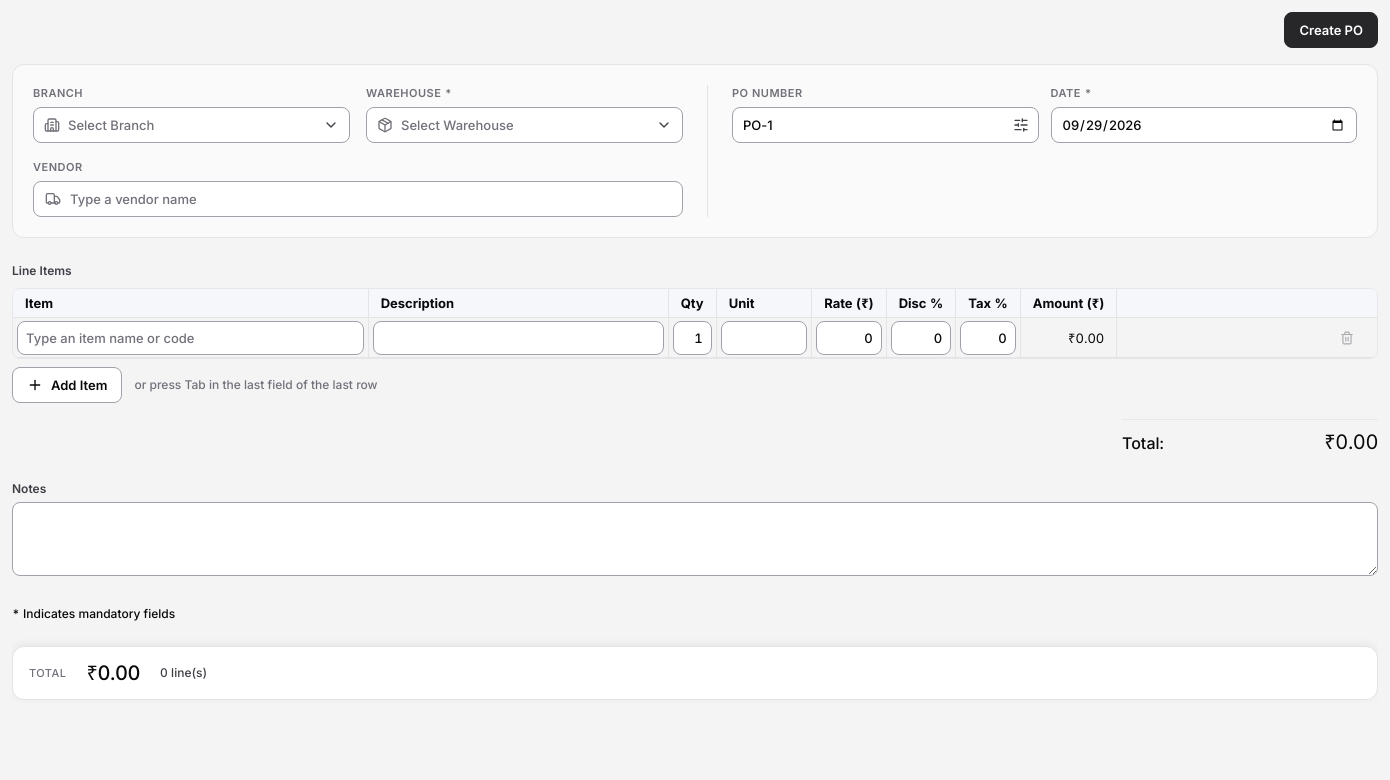
Test: the purchase order line grid › takes the discount off the line amount
The width and height of the screenshot is (1390, 780).
Replace the text in the 1st number field with "10" at [692, 338], box [673, 320, 712, 354]
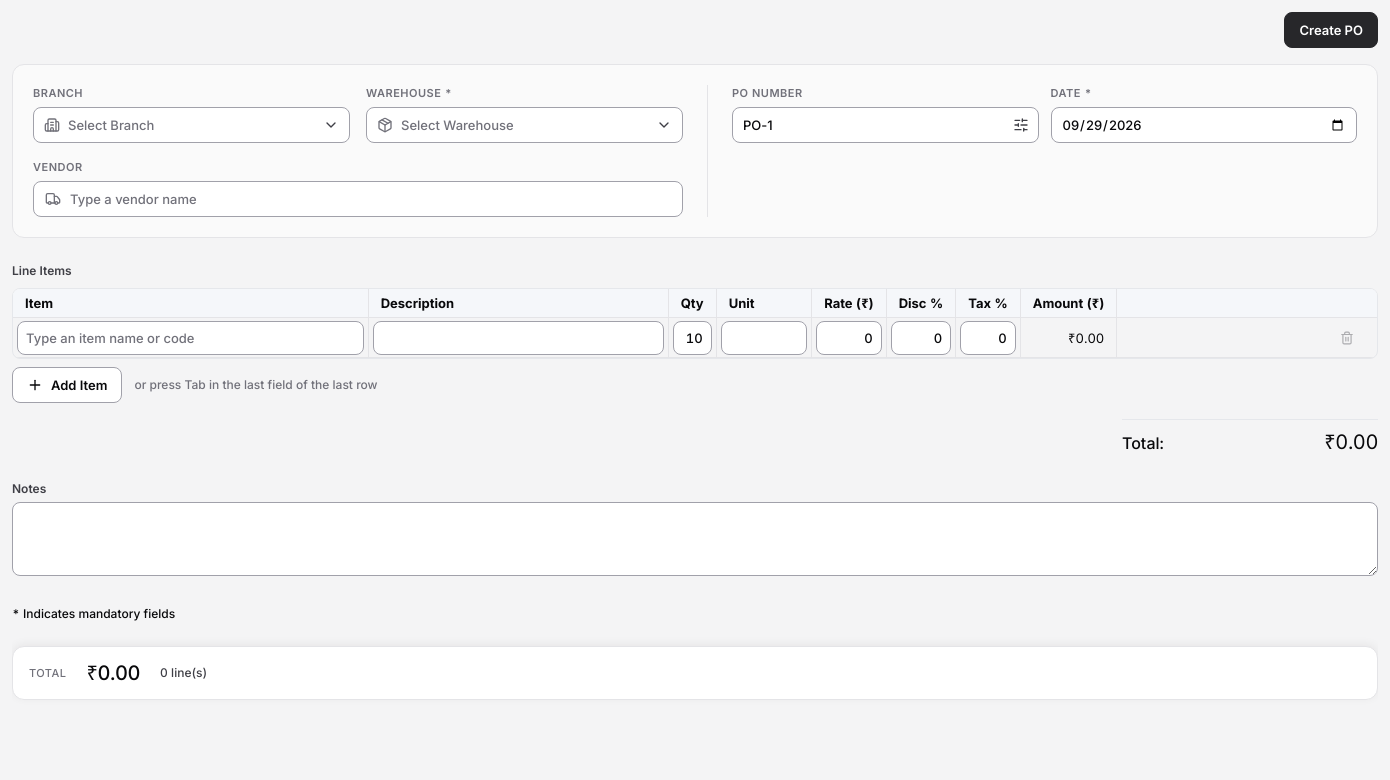
Replace the text in the 2nd number field with "100" at [849, 338], box [816, 320, 882, 354]
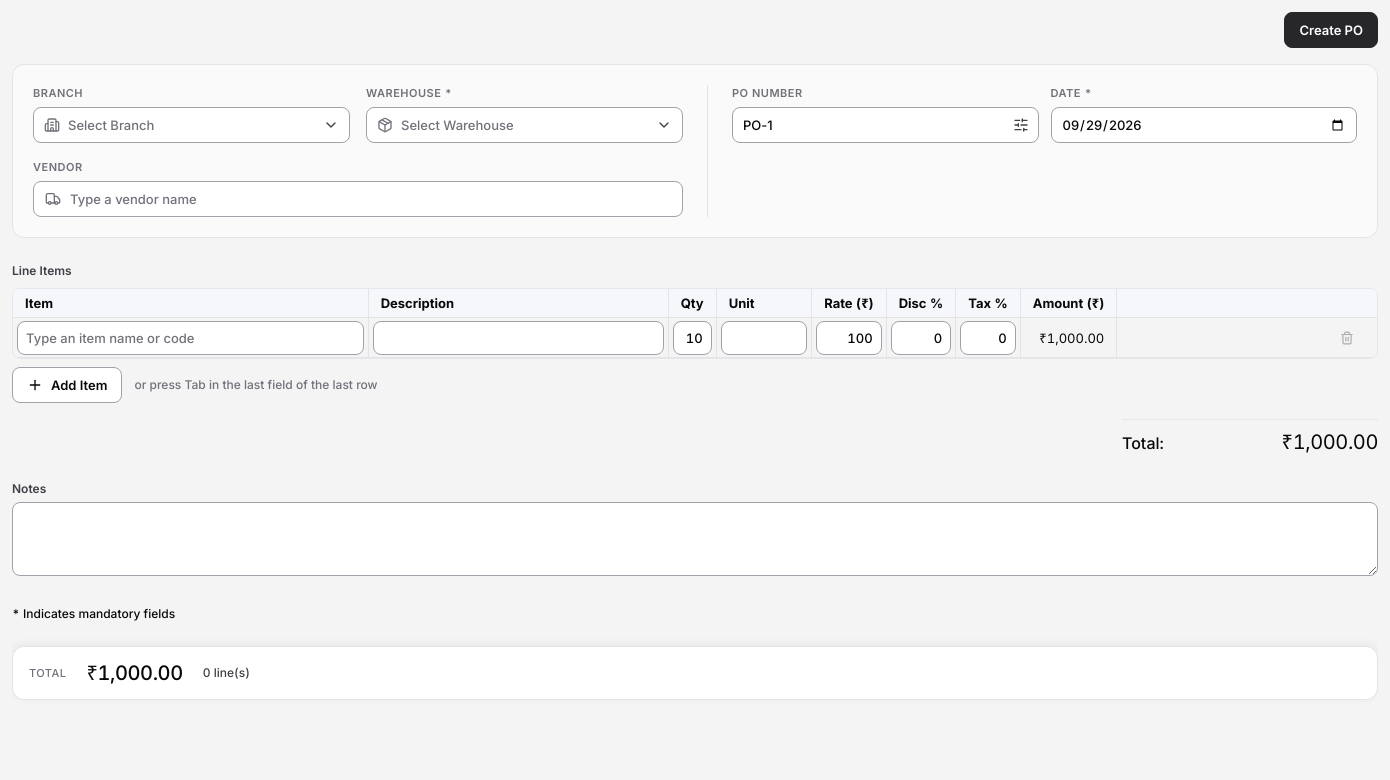
Expected: the text "₹1,000.00" is shown, [1020, 318, 1116, 358]
Replace the text in the 3rd number field with "10" at [921, 338], box [891, 320, 951, 354]
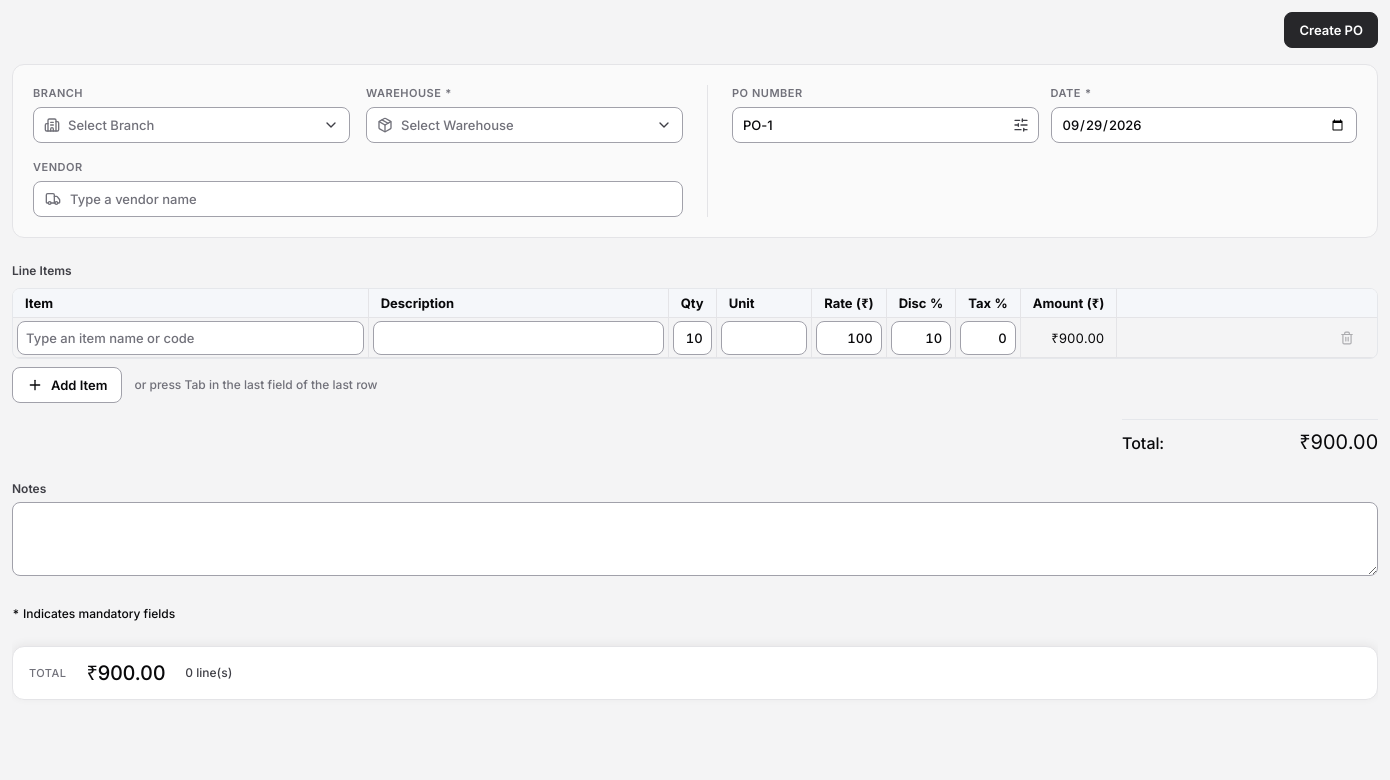
Expected: the text "₹900.00" is shown, [1020, 318, 1116, 358]
